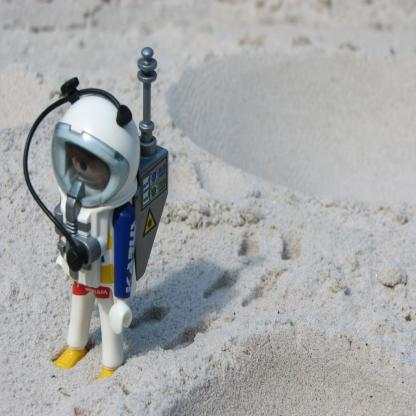Helmet: (50, 75, 140, 211)
